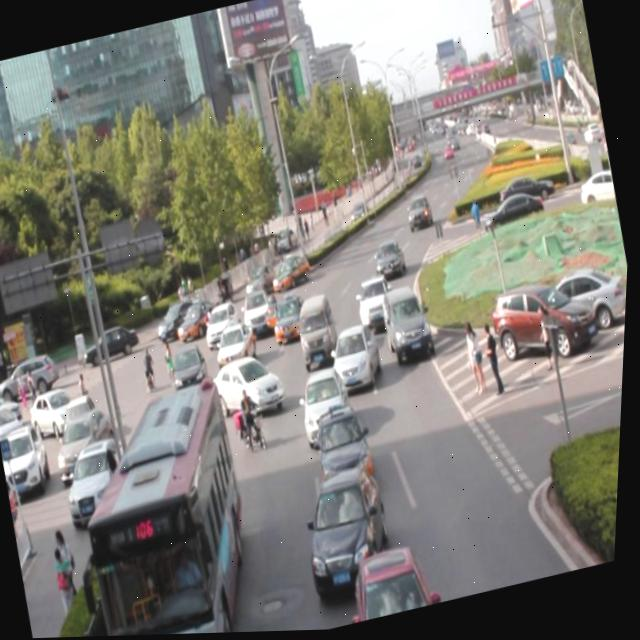car: (297, 463, 405, 601), (348, 540, 439, 625), (313, 403, 382, 491), (209, 349, 291, 422), (297, 366, 361, 449), (378, 284, 438, 365), (328, 323, 388, 397), (215, 315, 269, 371), (270, 284, 319, 342), (166, 342, 213, 401), (237, 283, 282, 344), (354, 275, 400, 333), (202, 299, 247, 352), (272, 243, 320, 290), (371, 239, 412, 283), (402, 193, 438, 240)
truck: (294, 294, 348, 372)
van: (68, 382, 276, 638)
